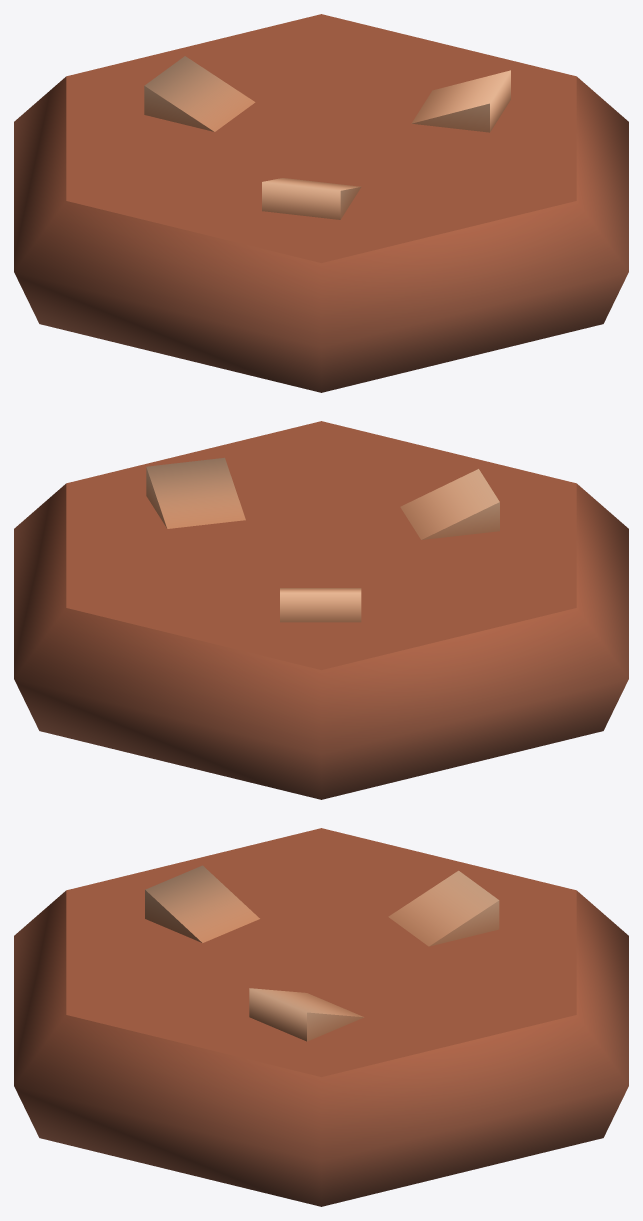
Rendered from cookie.glb.
3 renders of one model, top to bottom at view 1: azimuth 30°, elevation 25°; view 2: azimuth 150°, elevation 25°; view 3: azimuth 270°, elevation 25°, orthographic.
Parts seen in each view (by area): view 1: cookie; view 2: cookie; view 3: cookie.
Boxes of the visible parts, left/top/right/bottom form: cookie: left=14, top=14, right=628, bottom=392; cookie: left=14, top=421, right=628, bottom=799; cookie: left=14, top=828, right=628, bottom=1206.
Size of the model in its own units: 0.2197 by 0.0498 by 0.1903.
Materials: 1 (1 with a texture image).
